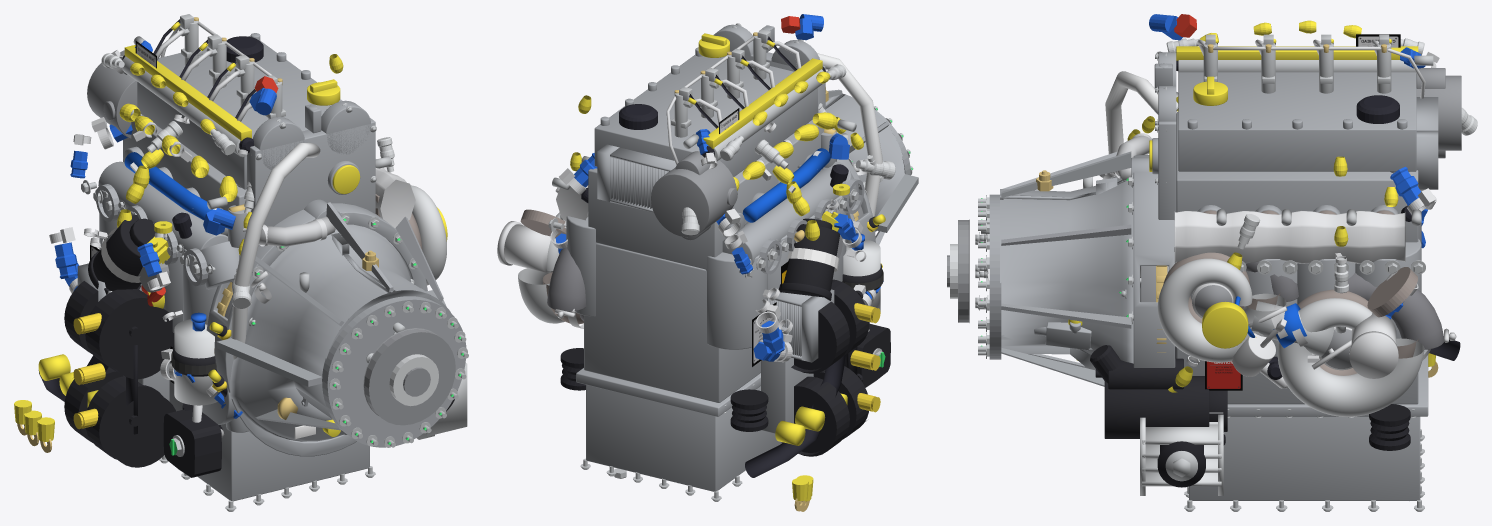
The model's file is vrde_jayem_2_2l.glb.
The picture shows the model from 3 angles, left to right: view 1: azimuth 30°, elevation 25°; view 2: azimuth 150°, elevation 25°; view 3: azimuth 270°, elevation 25°; orthographic projection. The views are drawn at different scales.
Visible parts, largest first — view 1: Gearbox_M_CastAluminium_0, Timing_Cover_Front_M_CastAluminium_0, Gearbox_FrontCover_M_CastAluminium_0, Valve_Cover_M_PlasticBlack_0, Generator_1_M_CastAluminium_0, Oil_Sump_M_CastAluminium_0, Generator_2_M_CastAluminium_0, Intermediate_Bellhousing_M_CastAluminium_0, Prop_Flange_M_Steel_0, Intake_Manifold_M_CastAluminium_0, Gearbox_Ribs_M_CastAluminium_0, Crankcase_Breather_Hose_M_BraidedSilver_0 (+32 smaller); view 2: Engine_Block_M_CastAluminium_0, Oil_Sump_M_CastAluminium_0, Valve_Cover_M_PlasticBlack_0, Cylinder_Head_M_CastAluminium_0, HP_Fuel_Pump_M_SteelDark_0, Generator_2_M_CastAluminium_0, Intercooler_M_CastAluminium_0, Generator_1_M_CastAluminium_0, Intake_Manifold_M_CastAluminium_0, Oil_Filter_M_MetalPaintedBlack_0, Gearbox_M_CastAluminium_0, Oil_Cooler_M_CastAluminium_0 (+32 smaller); view 3: Valve_Cover_M_PlasticBlack_0, Gearbox_M_CastAluminium_0, Oil_Sump_M_CastAluminium_0, Exhaust_Heat_Blanket_M_HeatShield_0, Cylinder_Head_M_CastAluminium_0, Turbo_LP_CompressorVolute_M_MachinedAlloy_0, Starter_M_MetalPaintedBlack_0, Intermediate_Bellhousing_M_CastAluminium_0, Engine_Block_M_CastAluminium_0, Turbo_HP_CompressorVolute_M_MachinedAlloy_0, Gearbox_Ribs_M_CastAluminium_0, Engine_Mount_Starboard_M_MachinedAlloy_0 (+35 smaller).
Part boxes in pixels (bbox=[...]): Gearbox_M_CastAluminium_0: bbox=[229, 224, 451, 441]; Timing_Cover_Front_M_CastAluminium_0: bbox=[247, 100, 375, 226]; Gearbox_FrontCover_M_CastAluminium_0: bbox=[322, 296, 466, 447]; Valve_Cover_M_PlasticBlack_0: bbox=[137, 33, 342, 189]; Generator_1_M_CastAluminium_0: bbox=[64, 281, 174, 379]; Oil_Sump_M_CastAluminium_0: bbox=[169, 376, 369, 501]; Generator_2_M_CastAluminium_0: bbox=[64, 367, 175, 467]; Intermediate_Bellhousing_M_CastAluminium_0: bbox=[206, 203, 427, 456]; Prop_Flange_M_Steel_0: bbox=[363, 328, 455, 425]; Intake_Manifold_M_CastAluminium_0: bbox=[98, 161, 239, 289]; Gearbox_Ribs_M_CastAluminium_0: bbox=[255, 202, 446, 434]; Crankcase_Breather_Hose_M_BraidedSilver_0: bbox=[231, 142, 320, 359]; Engine_Block_M_CastAluminium_0: bbox=[566, 195, 846, 402]; Oil_Sump_M_CastAluminium_0: bbox=[576, 368, 781, 491]; Valve_Cover_M_PlasticBlack_0: bbox=[594, 47, 817, 176]; Cylinder_Head_M_CastAluminium_0: bbox=[588, 120, 824, 269]; HP_Fuel_Pump_M_SteelDark_0: bbox=[651, 151, 737, 240]; Generator_2_M_CastAluminium_0: bbox=[781, 366, 868, 456]; Intercooler_M_CastAluminium_0: bbox=[597, 144, 676, 212]; Generator_1_M_CastAluminium_0: bbox=[791, 279, 869, 373]; Intake_Manifold_M_CastAluminium_0: bbox=[722, 161, 856, 264]; Oil_Filter_M_MetalPaintedBlack_0: bbox=[778, 218, 839, 300]; Gearbox_M_CastAluminium_0: bbox=[825, 94, 904, 216]; Oil_Cooler_M_CastAluminium_0: bbox=[751, 289, 834, 362]; Valve_Cover_M_PlasticBlack_0: bbox=[1178, 72, 1416, 171]; Gearbox_M_CastAluminium_0: bbox=[1000, 175, 1133, 370]; Oil_Sump_M_CastAluminium_0: bbox=[1189, 349, 1428, 500]; Exhaust_Heat_Blanket_M_HeatShield_0: bbox=[1174, 211, 1405, 263]; Cylinder_Head_M_CastAluminium_0: bbox=[1176, 112, 1418, 242]; Turbo_LP_CompressorVolute_M_MachinedAlloy_0: bbox=[1277, 298, 1424, 416]; Starter_M_MetalPaintedBlack_0: bbox=[1095, 358, 1227, 438]; Intermediate_Bellhousing_M_CastAluminium_0: bbox=[1133, 155, 1175, 367]; Engine_Block_M_CastAluminium_0: bbox=[1174, 189, 1421, 404]; Turbo_HP_CompressorVolute_M_MachinedAlloy_0: bbox=[1157, 258, 1286, 362]; Gearbox_Ribs_M_CastAluminium_0: bbox=[1001, 151, 1131, 386]; Engine_Mount_Starboard_M_MachinedAlloy_0: bbox=[1140, 412, 1223, 495].
Bounding box in the file's own units: 0.58 × 0.682 × 0.7348.
24 materials, 1 textured.
